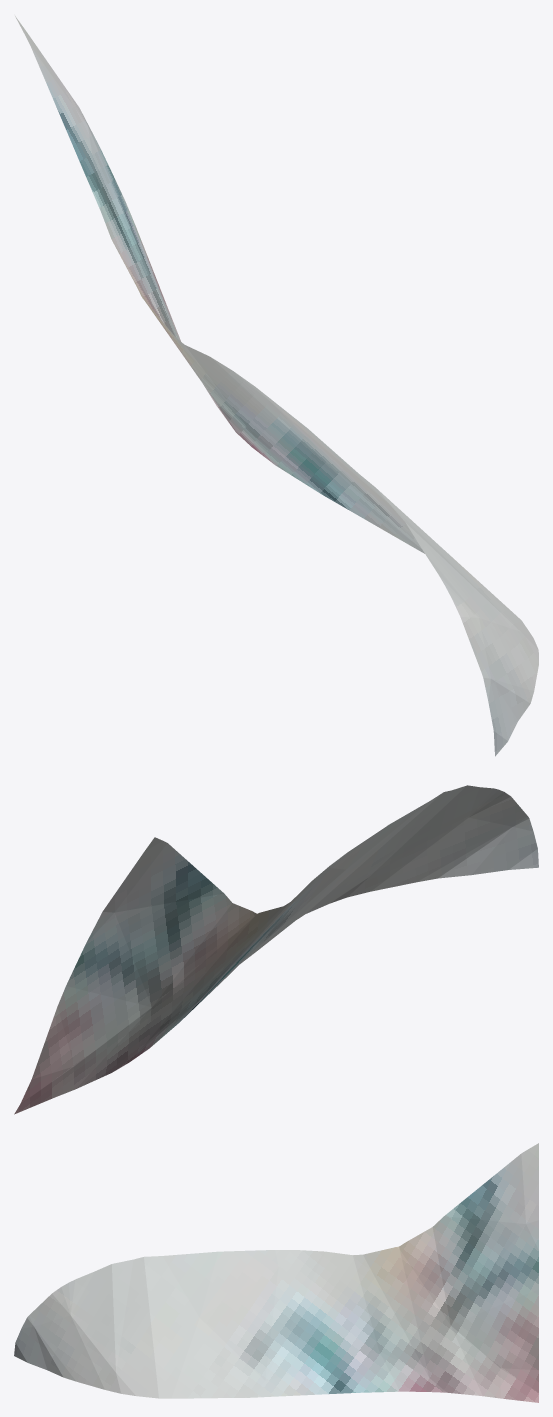
3 views of the same model, one above another, from view 1: azimuth 30°, elevation 25°; view 2: azimuth 150°, elevation 25°; view 3: azimuth 270°, elevation 25° (orthographic). The views are drawn at different scales.
Size of the model in its own units: 8.4 by 17.78 by 39.7.
1 material, 1 textured.
